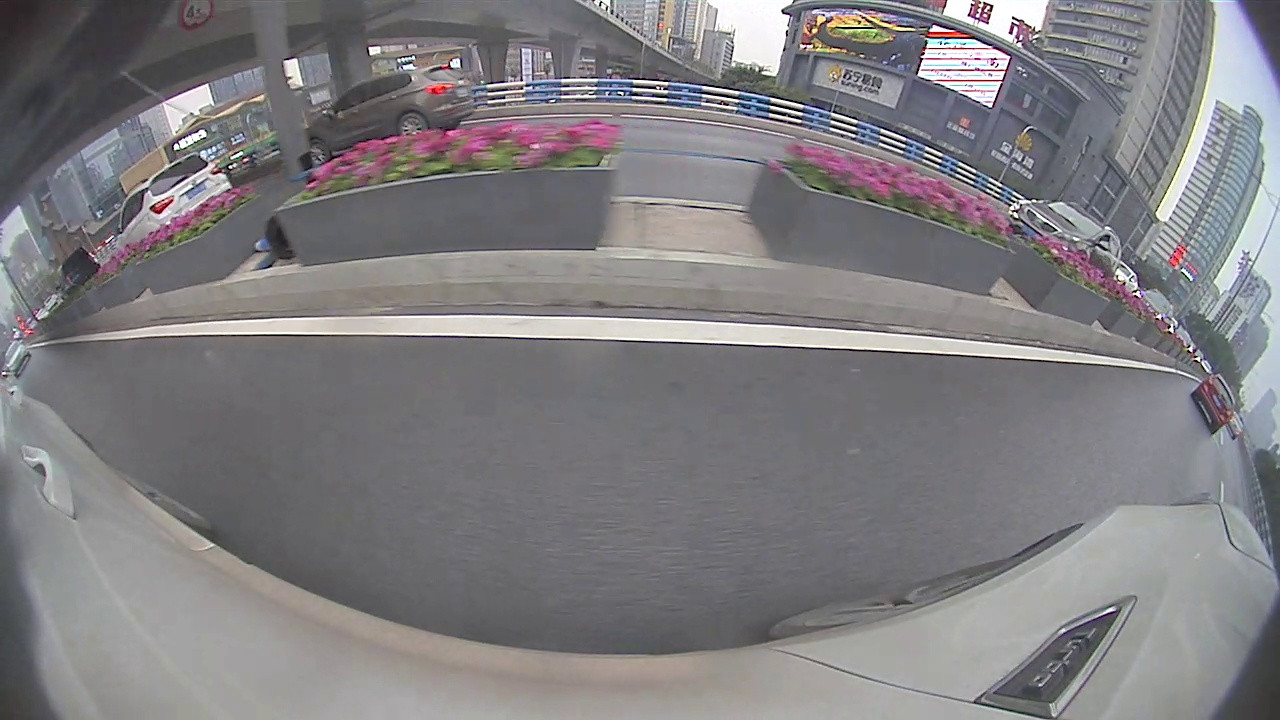car: (309, 64, 476, 165), (1192, 374, 1237, 434)
front: (308, 135, 335, 164)
rear: (397, 111, 429, 134)
